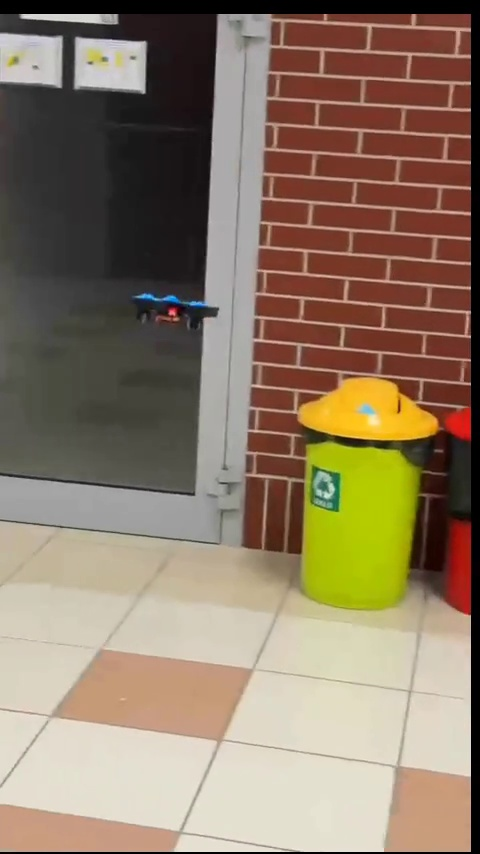drone: (127, 290, 233, 332)
